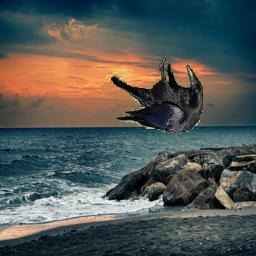Crow: (111, 54, 203, 134)
